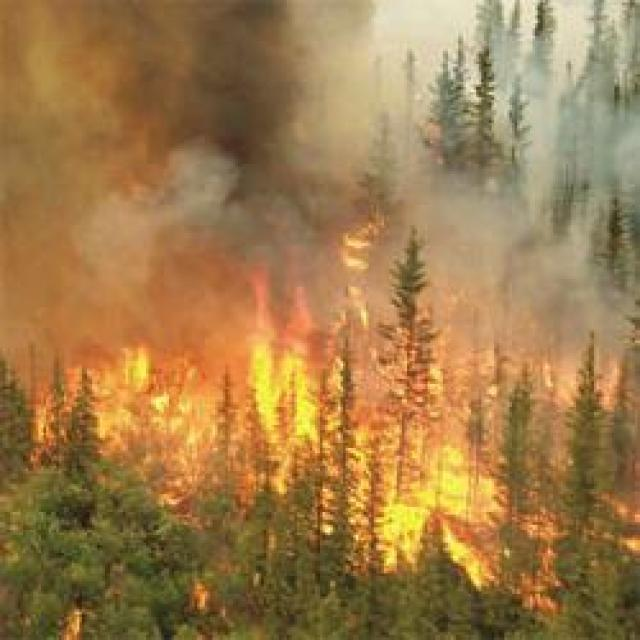Fire: (241, 326, 521, 600), (79, 353, 218, 490)
Smoke: (0, 0, 317, 299), (416, 50, 640, 318)
